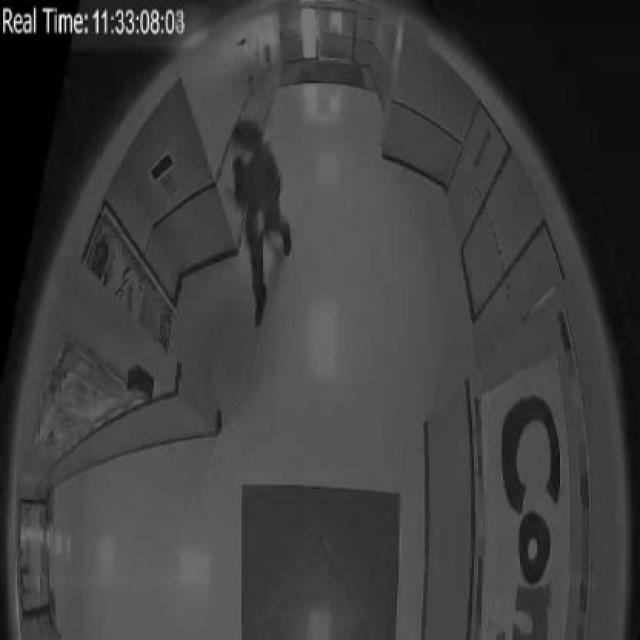weapon: (232, 218, 246, 248)
